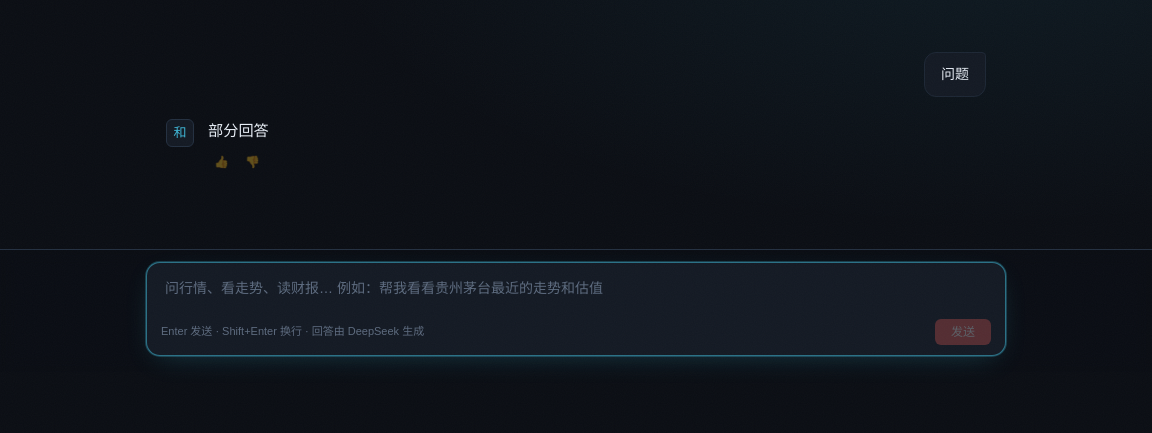
Test case: ThreadArea 流中断与错误场景 › runAgent 网络层失败（如 HTTP 502）：显示错误横幅，已收到部分消息仍渲染，可关闭
This screenshot has width=1152, height=433.
Expected: the text "部分回答" is shown, [208, 122, 269, 139]
Type "继续" into the text box with placeholder "问行情、看走势、读财报… 例如：帮我看看贵州茅台最近的走势和估值" at (576, 288), box [155, 271, 997, 306]
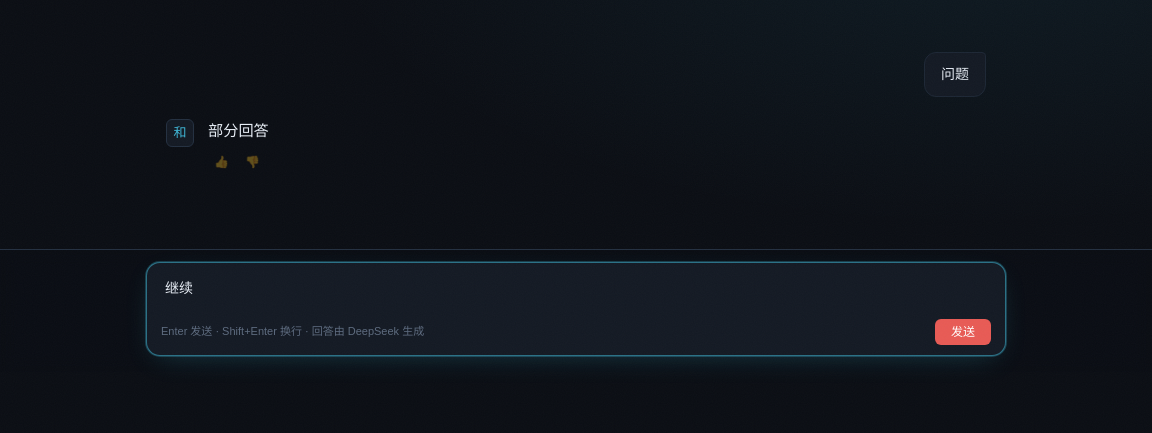
Press Enter in the text box with placeholder "问行情、看走势、读财报… 例如：帮我看看贵州茅台最近的走势和估值", box [155, 271, 997, 306]
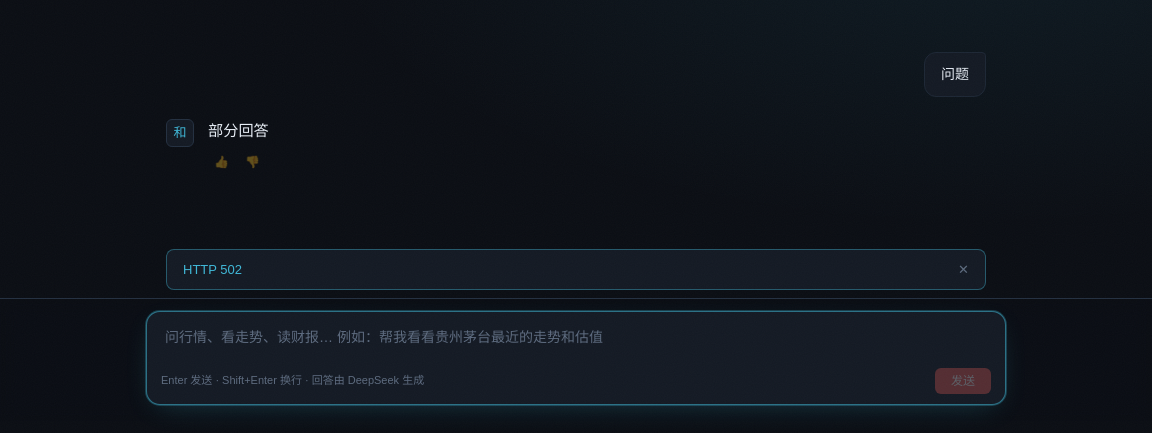
Expected: the text "部分回答" is shown, [208, 122, 269, 139]
Result: the text "HTTP 502" is shown at [183, 260, 242, 279]
Click the button named "关闭错误提示" at (964, 270), box [958, 260, 969, 279]
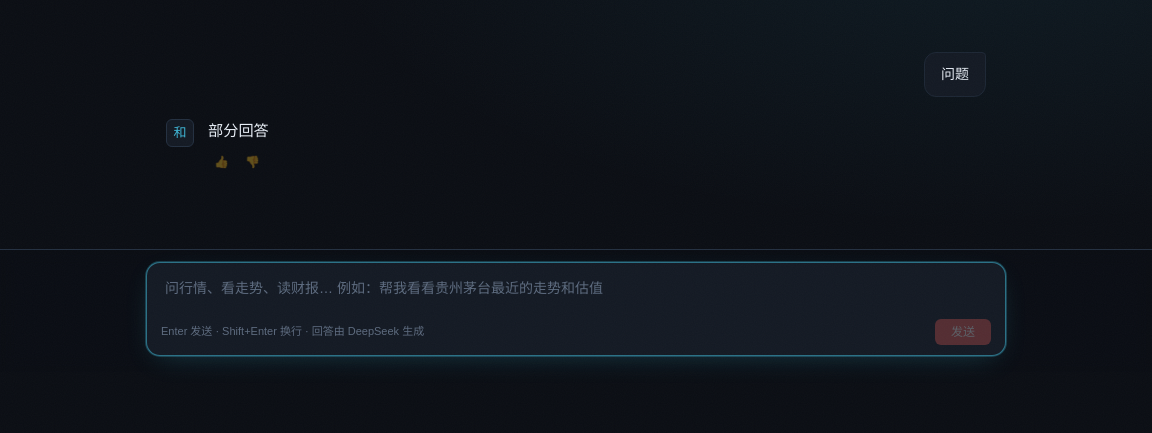
Result: the text "HTTP 502" is gone
